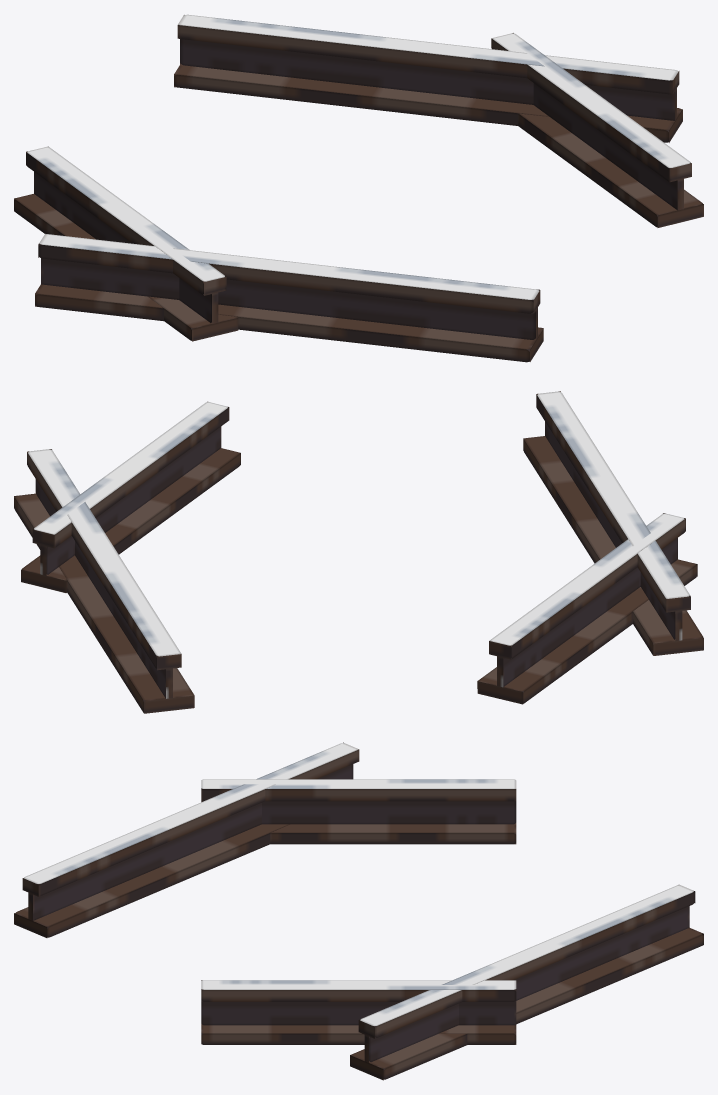
The model's file is cross_d1_zo.obj.
The picture shows the model from 3 angles, top to bottom: view 1: azimuth 30°, elevation 25°; view 2: azimuth 150°, elevation 25°; view 3: azimuth 270°, elevation 25°; orthographic projection. The views are drawn at different scales.
Visible parts, largest first — view 1: cube; view 2: cube; view 3: cube.
Part boxes in pixels (box(x1,y1,x2,y2)): cube: box(14, 14, 703, 362); cube: box(14, 391, 703, 713); cube: box(14, 742, 703, 1080).
Bounding box in the file's own units: 2.19 × 0.1759 × 2.19.
